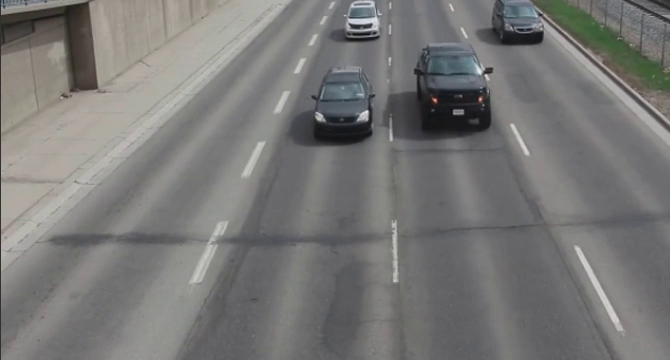car: (409, 44, 492, 137), (314, 62, 381, 141), (490, 1, 546, 45), (343, 1, 385, 42)
